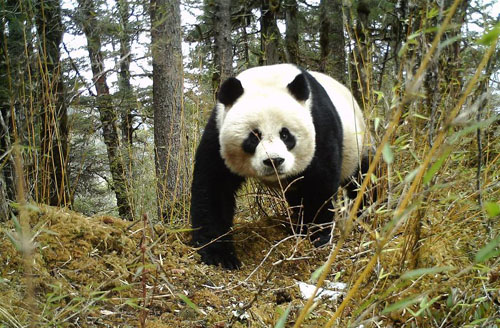panda: (180, 57, 381, 255)
